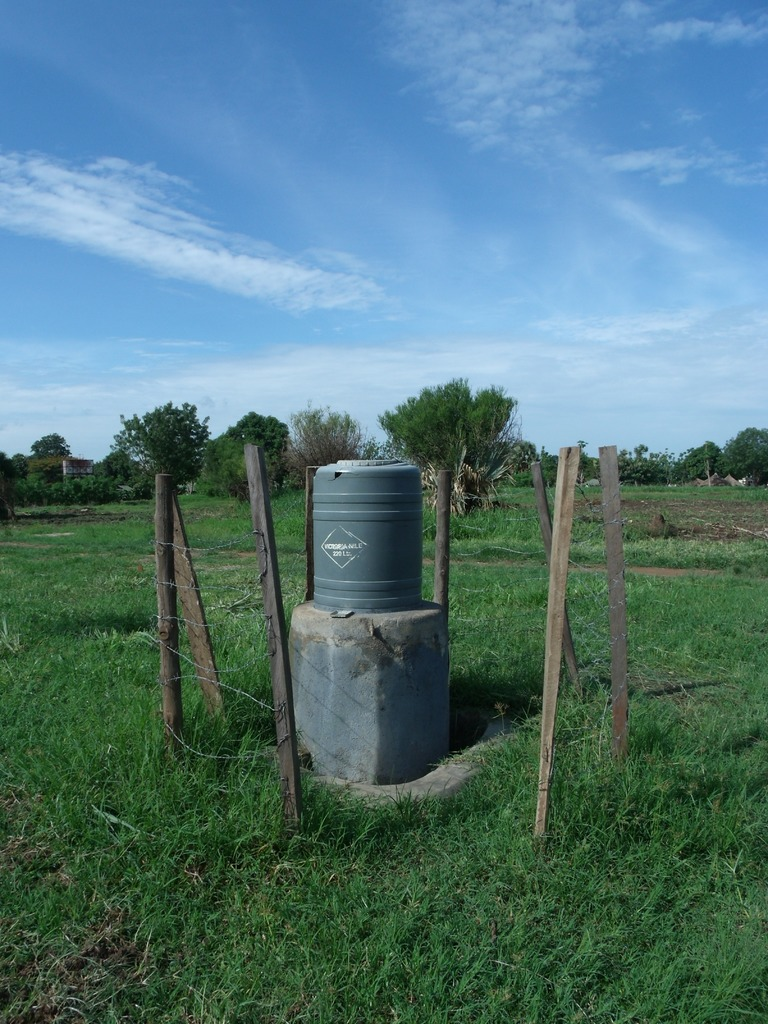Tree: (378, 380, 519, 521), (498, 418, 767, 490), (0, 434, 163, 518), (285, 399, 386, 490), (197, 406, 300, 495), (124, 385, 204, 487), (35, 430, 78, 462)
